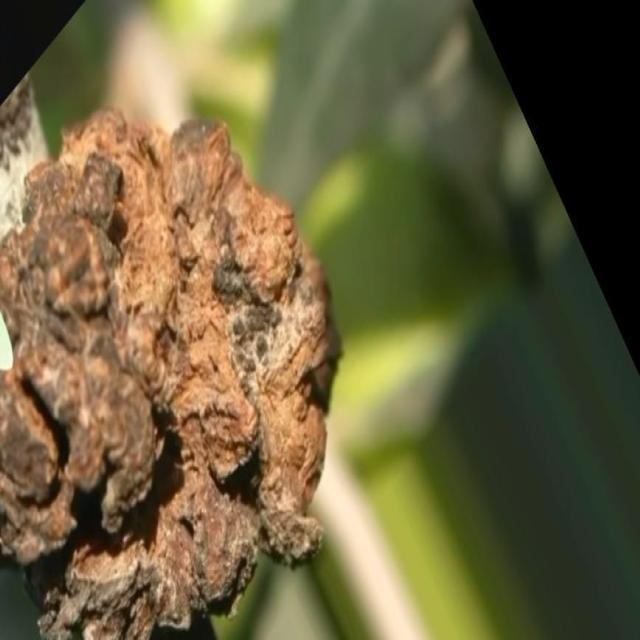Tuberculosis: (0, 110, 338, 638)
